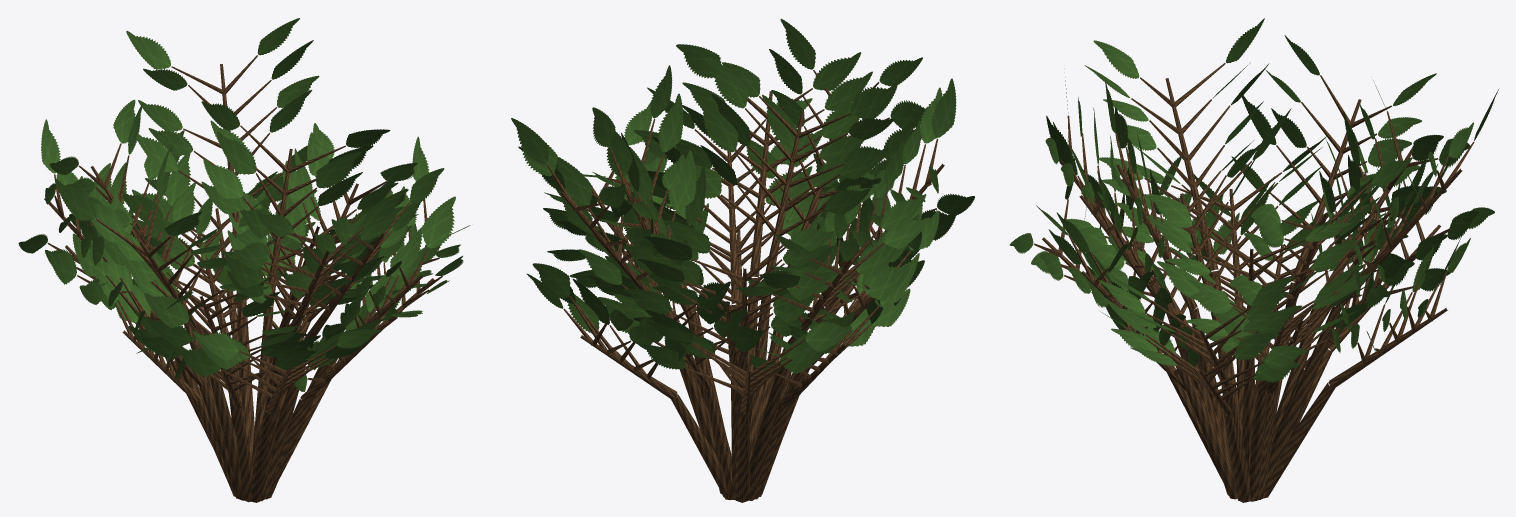
Rendered from windfall-hazel-shrub.glb.
The picture shows the model from 3 angles, left to right: view 1: azimuth 30°, elevation 25°; view 2: azimuth 150°, elevation 25°; view 3: azimuth 270°, elevation 25°; orthographic projection. The views are drawn at different scales.
Visible parts, largest first — view 1: leaf, bark; view 2: leaf, bark; view 3: leaf, bark.
Boxes of the visible parts, x1=… form: leaf: x1=18, y1=18, x2=470, y2=391; bark: x1=44, y1=55, x2=450, y2=502; leaf: x1=511, y1=18, x2=974, y2=373; bark: x1=547, y1=70, x2=944, y2=502; leaf: x1=1009, y1=18, x2=1498, y2=382; bark: x1=1034, y1=63, x2=1474, y2=502.
Bounding box in the file's own units: 2.43 × 2.33 × 2.53.
Materials: 2 (2 with a texture image).
